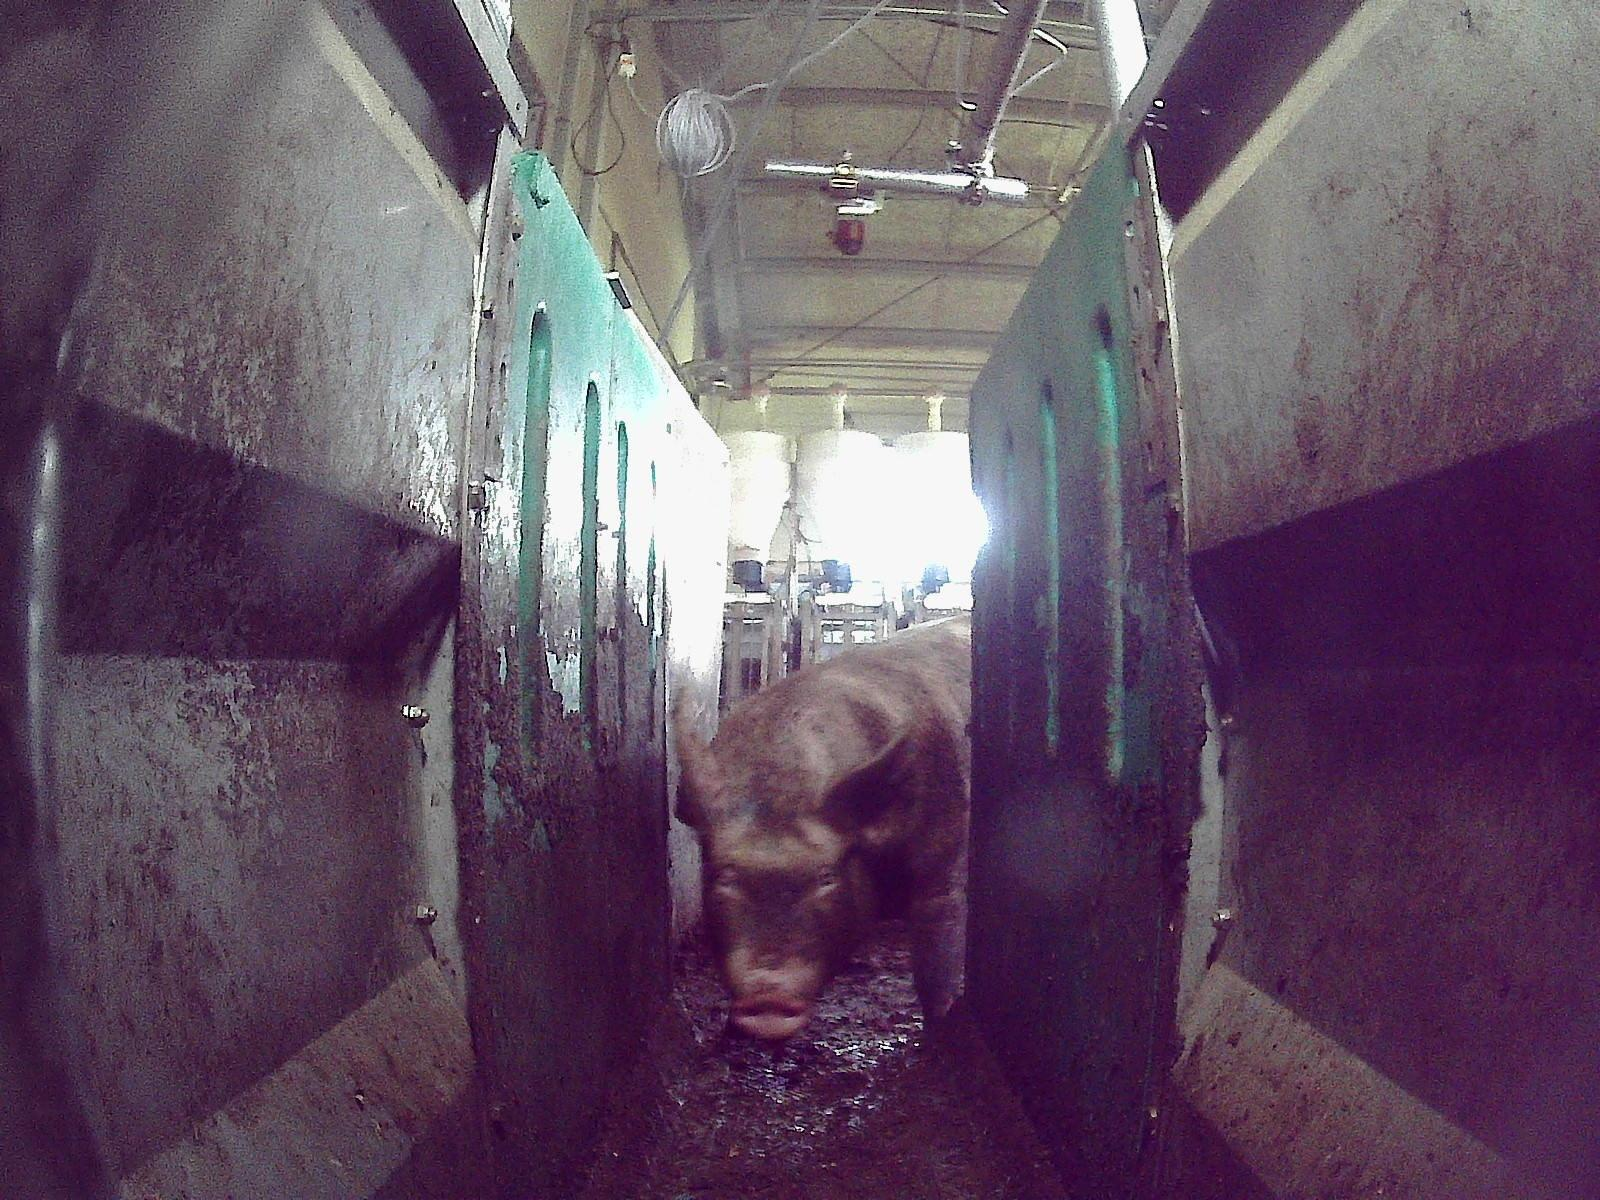Face: (702, 774, 857, 1038)
